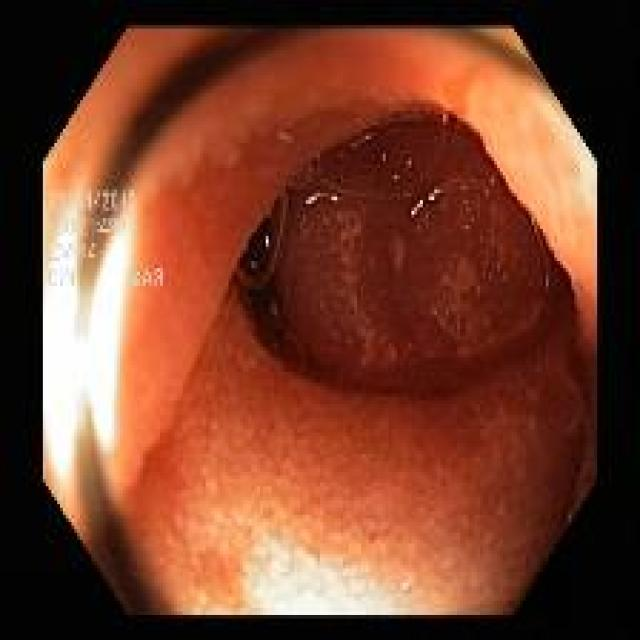ulcerative-colitis: (125, 102, 595, 613)
